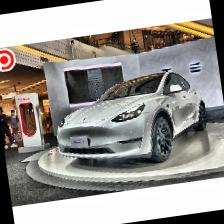EV: (52, 67, 213, 178)
